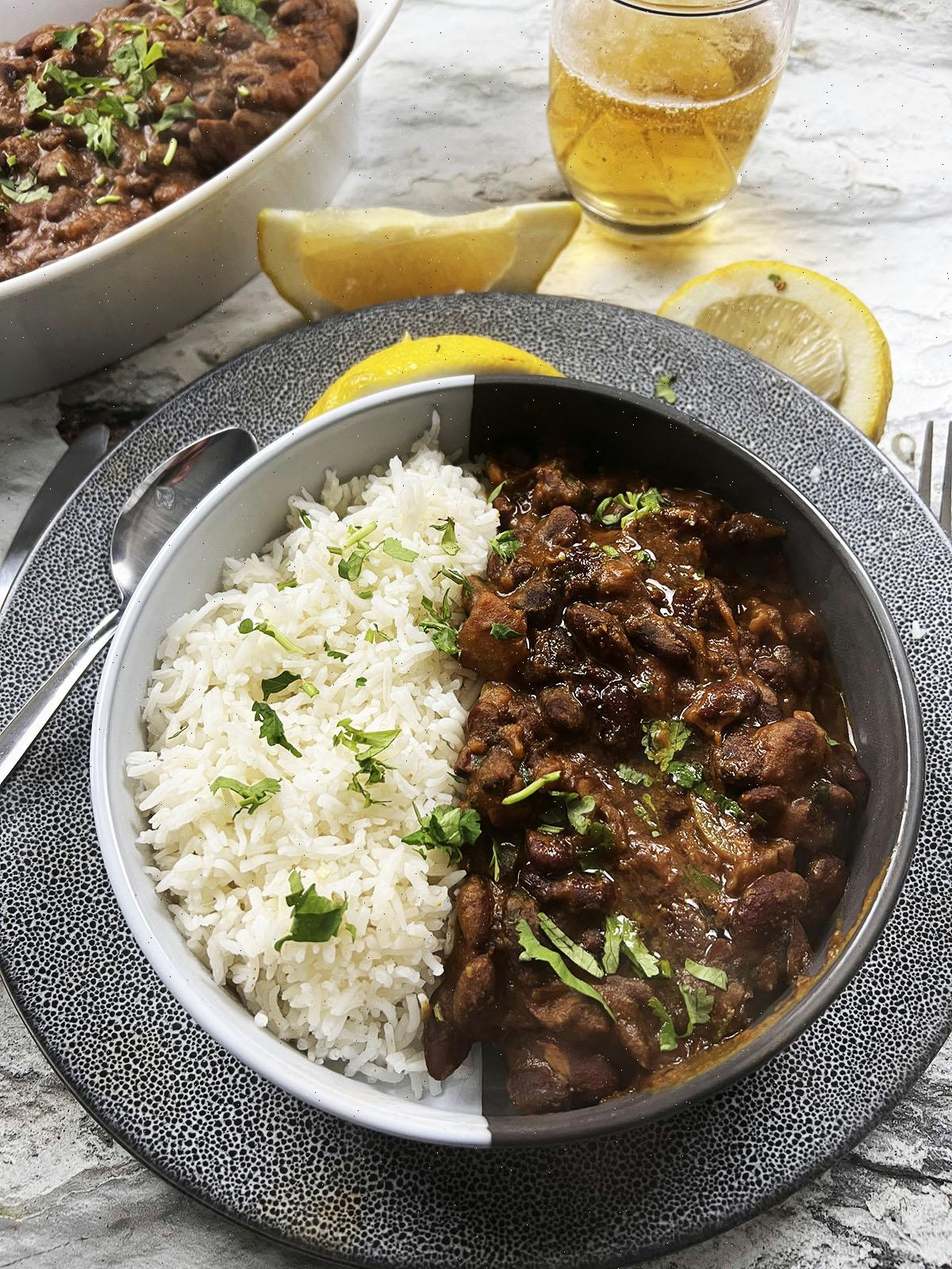rajma: (484, 444, 829, 1118)
rice: (167, 472, 472, 1118)
